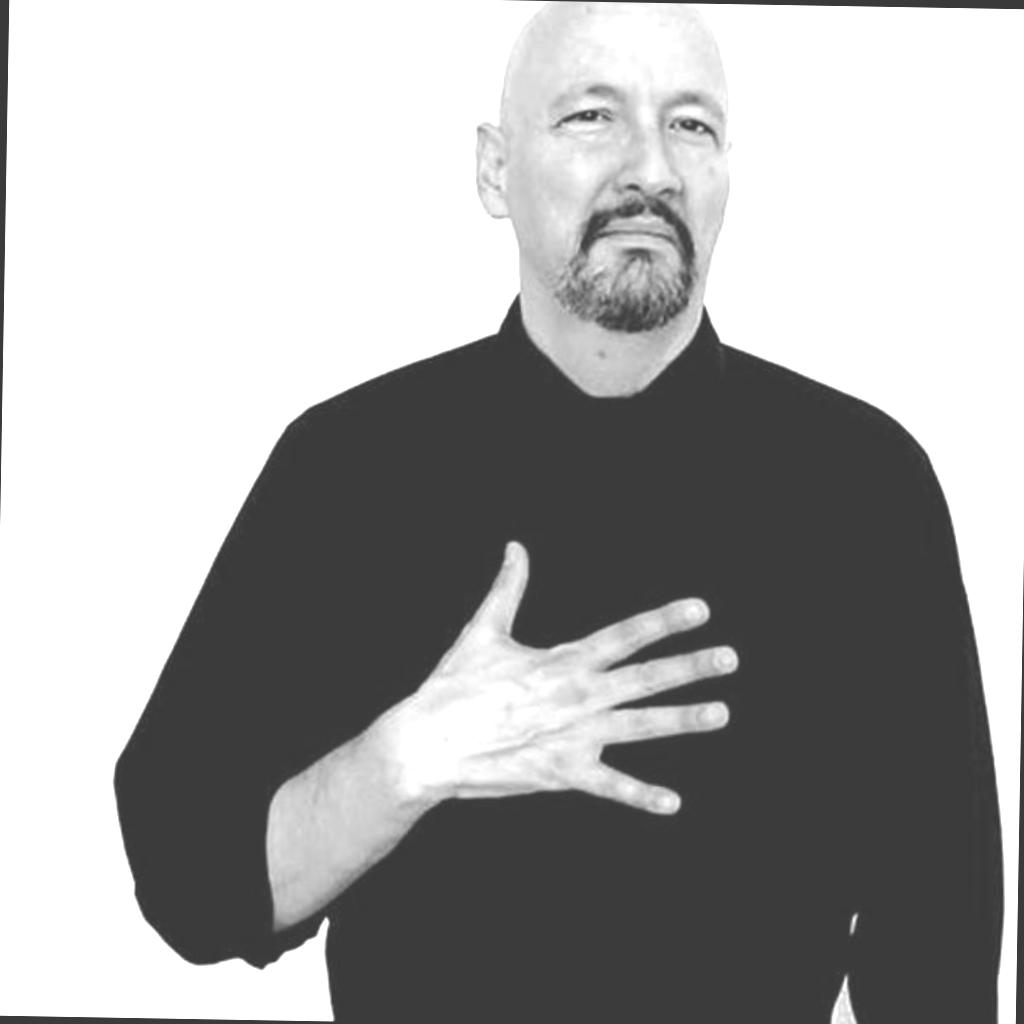like: (418, 538, 740, 816)
